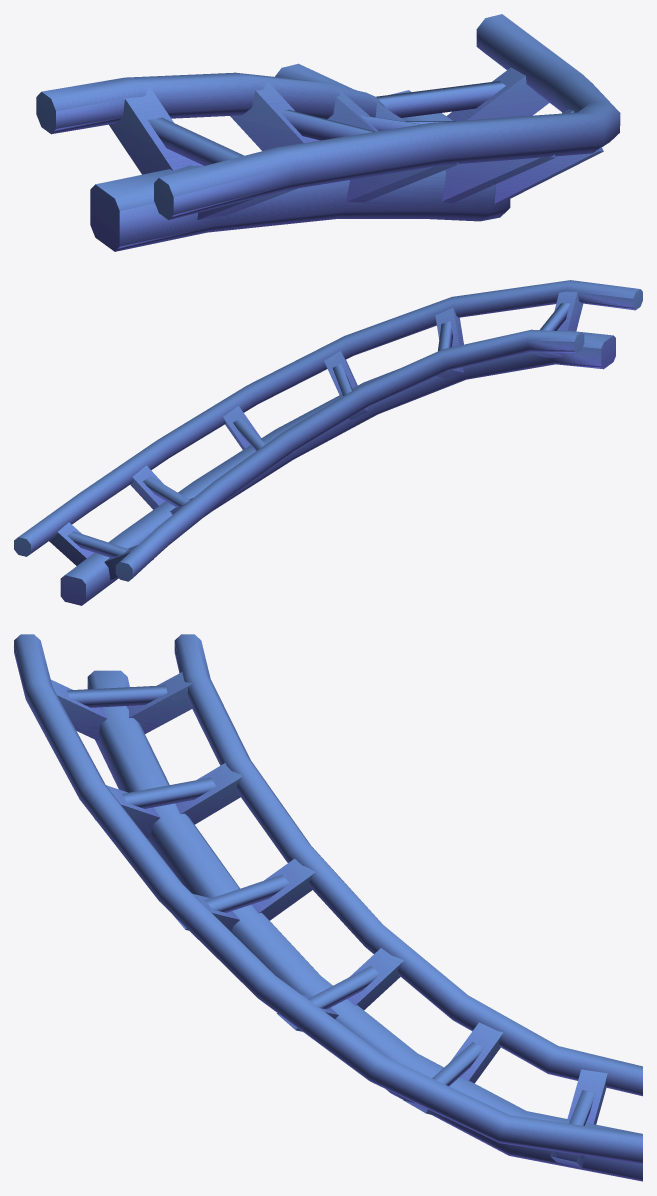
Rendered from coaster-steel-corner-small-ramp.glb.
3 renders of one model, top to bottom at view 1: azimuth 30°, elevation 25°; view 2: azimuth 150°, elevation 25°; view 3: azimuth 270°, elevation 25°, orthographic. The views are drawn at different scales.
Visible parts, largest first — view 1: coaster-steel-corner-small-ramp; view 2: coaster-steel-corner-small-ramp; view 3: coaster-steel-corner-small-ramp.
Boxes of the visible parts, bbox=[...] form: coaster-steel-corner-small-ramp: bbox=[36, 14, 620, 251]; coaster-steel-corner-small-ramp: bbox=[14, 280, 642, 605]; coaster-steel-corner-small-ramp: bbox=[14, 634, 642, 1181].
Bounding box in the file's own units: 7.05 × 3.9 × 7.05.
Materials: 1 (1 with a texture image).
